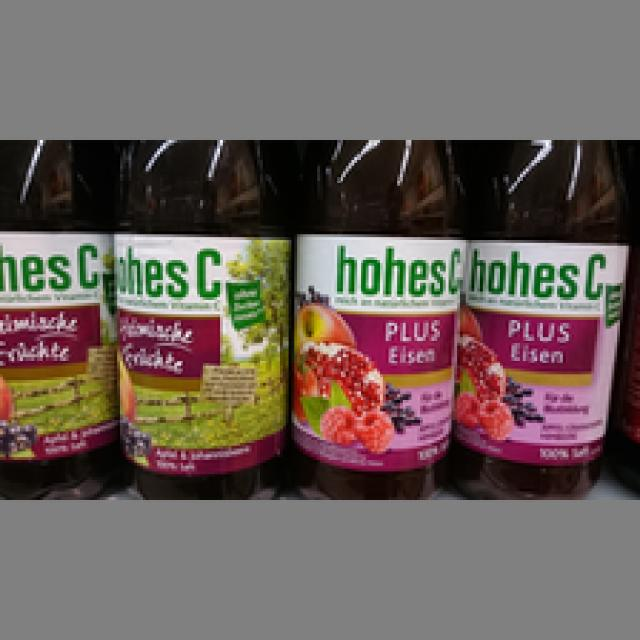groceries: (111, 137, 292, 494), (451, 140, 626, 489), (292, 137, 452, 492), (0, 140, 117, 489)
